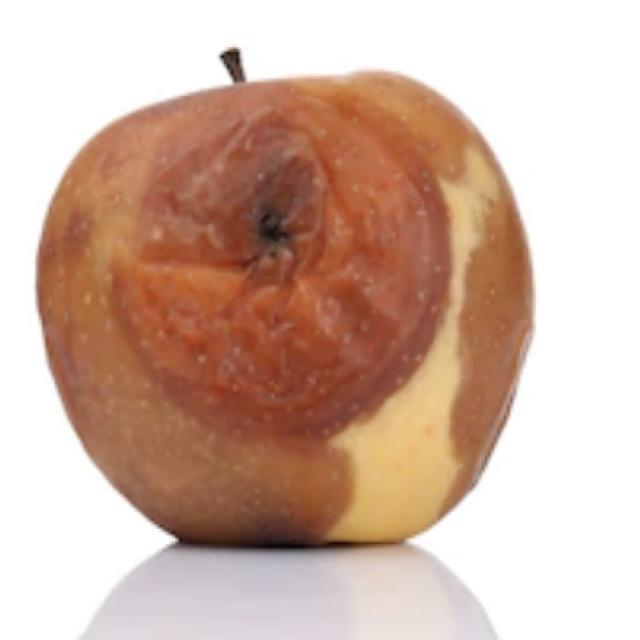Rotten: (27, 57, 528, 558)
